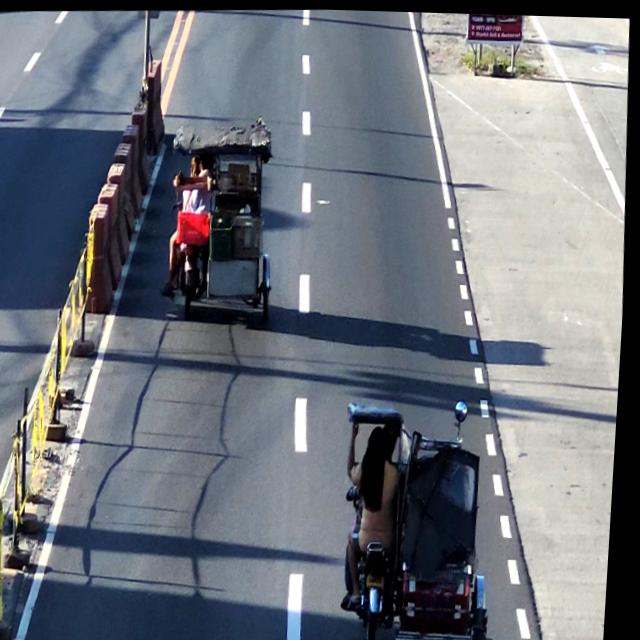License-Plate: (371, 570, 393, 587)
Tricycle: (333, 388, 511, 640), (162, 115, 282, 319)
